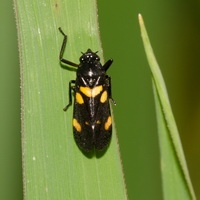insect: (59, 27, 112, 151)
